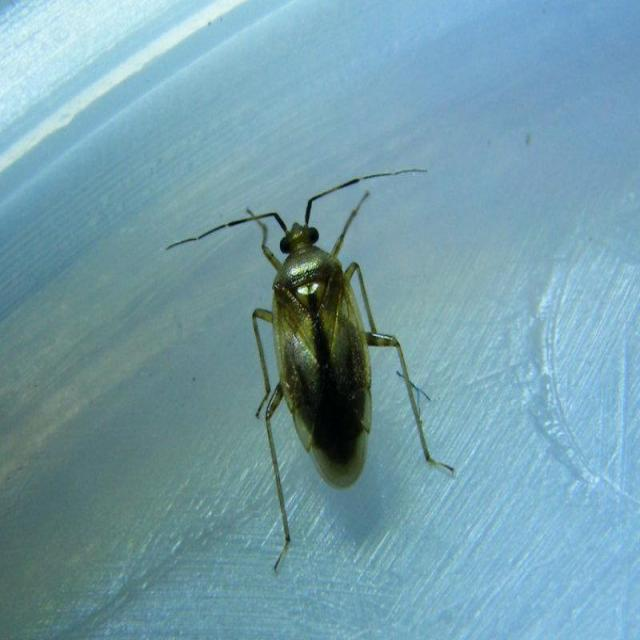Miridae-Adult-: (159, 163, 463, 562)
